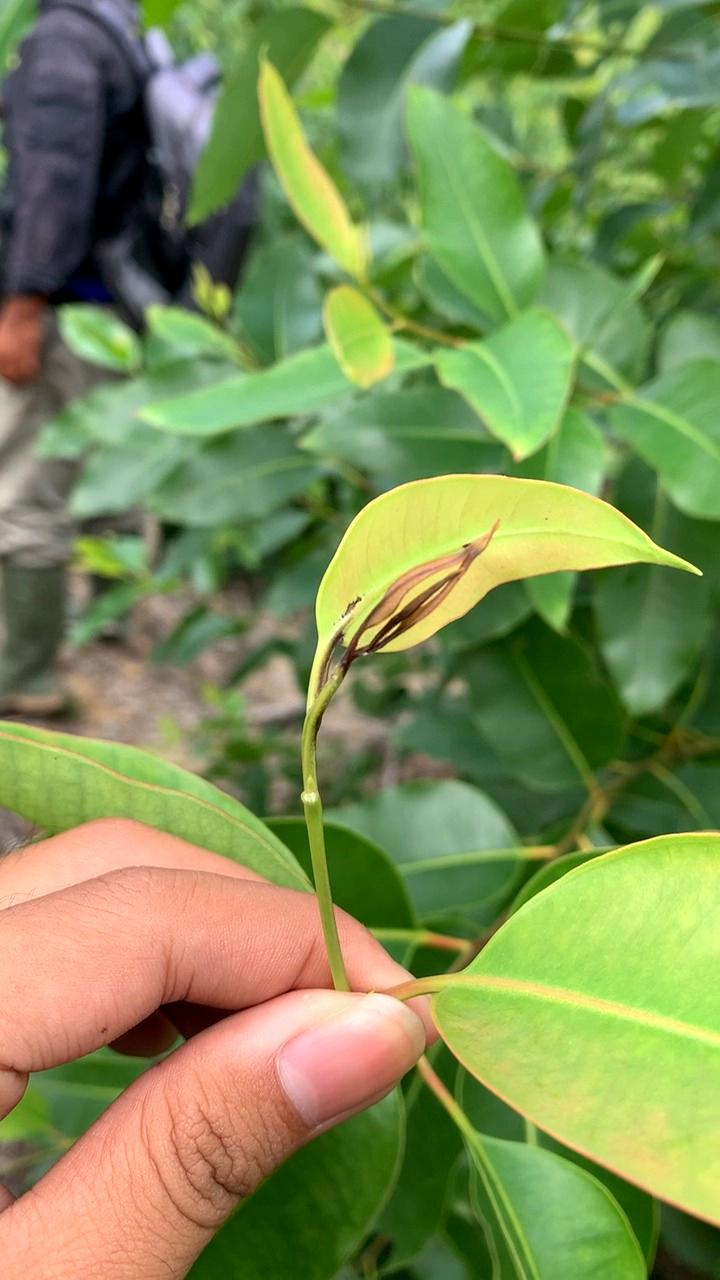Helopeltis-Withered Sprout: (325, 528, 509, 651)
